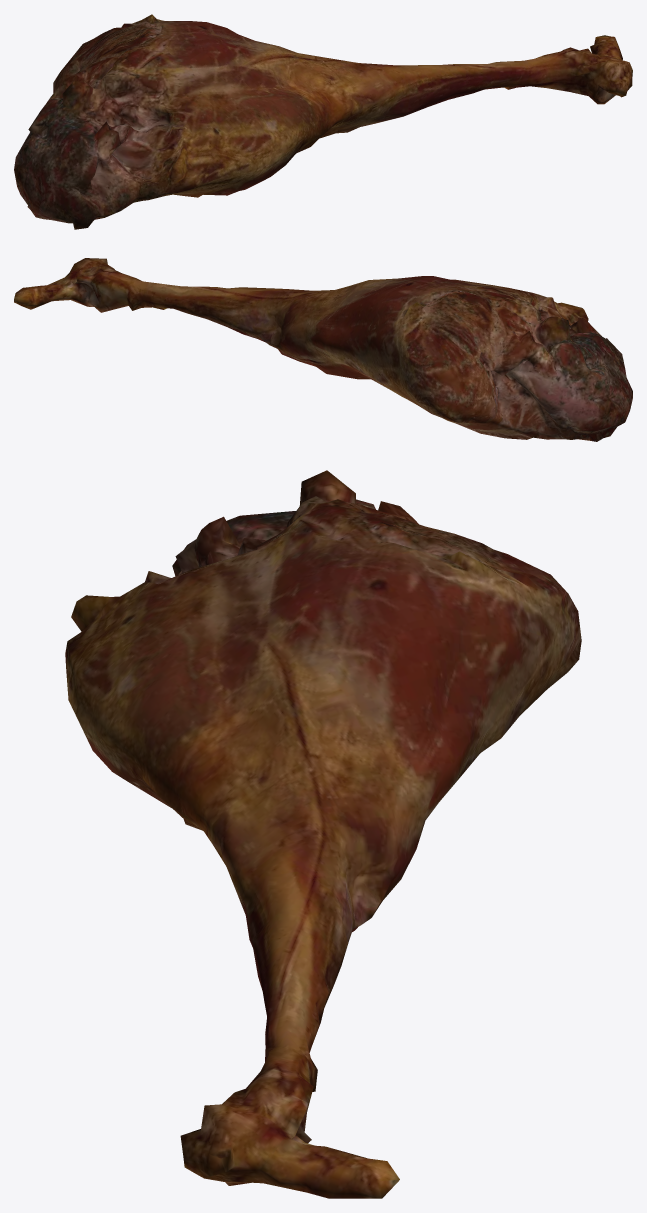
File: joint_a.glb
The picture shows the model from 3 angles, top to bottom: view 1: azimuth 30°, elevation 25°; view 2: azimuth 150°, elevation 25°; view 3: azimuth 270°, elevation 25°; orthographic projection. The views are drawn at different scales.
Parts seen in each view (by area): view 1: weojfdjaa_LOD0_TIER2_000; view 2: weojfdjaa_LOD0_TIER2_000; view 3: weojfdjaa_LOD0_TIER2_000.
Boxes of the visible parts, x1,y1,x2,y2 form: weojfdjaa_LOD0_TIER2_000: (14, 14, 632, 229); weojfdjaa_LOD0_TIER2_000: (14, 258, 632, 441); weojfdjaa_LOD0_TIER2_000: (65, 470, 581, 1198).
Bounding box in the file's own units: 0.4946 × 0.1102 × 0.1889.
1 material, 1 textured.
